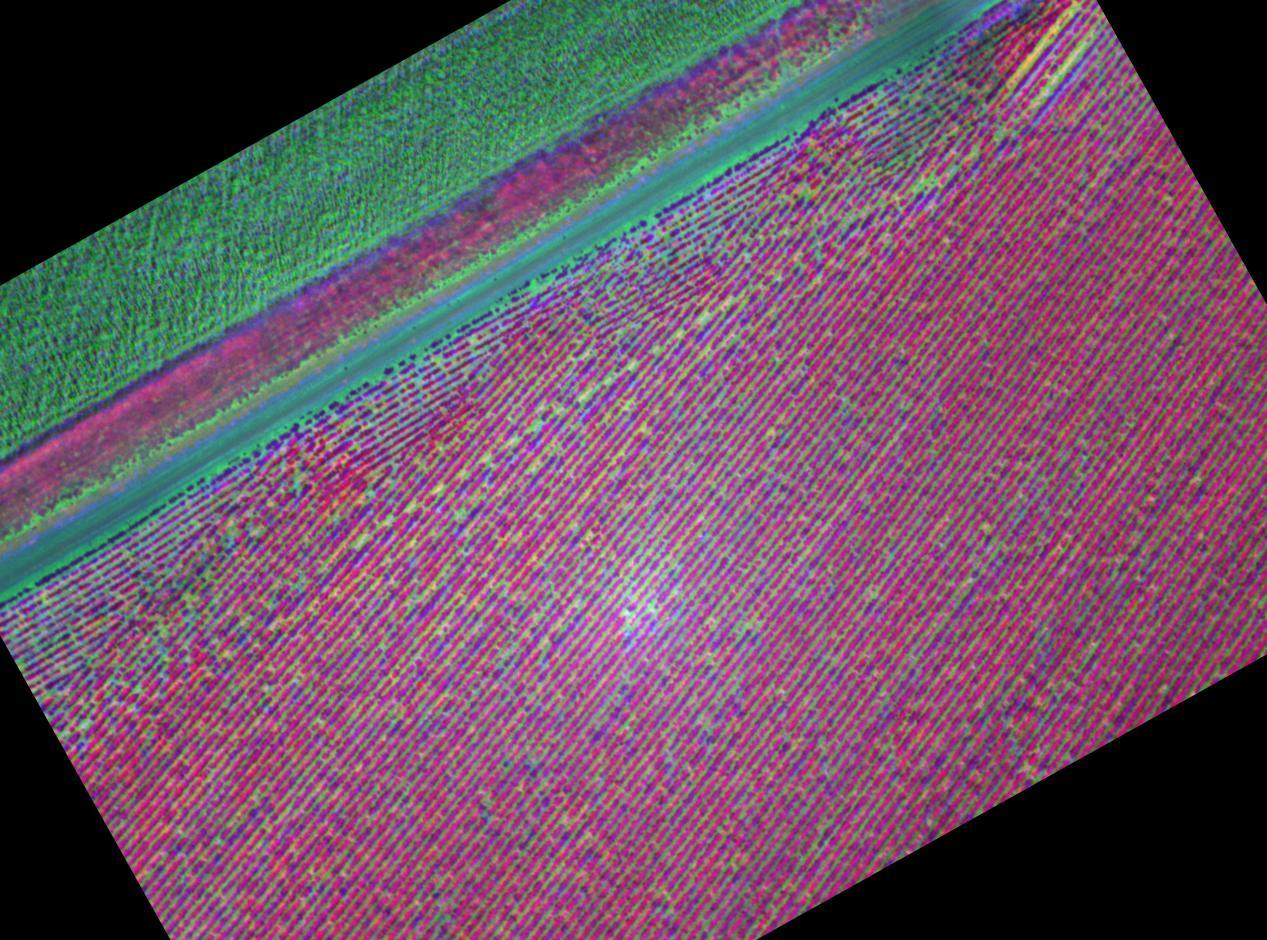dc: (485, 455, 490, 461), (83, 721, 89, 726), (534, 422, 539, 427), (410, 505, 415, 510), (986, 528, 990, 532), (1025, 65, 1029, 69), (913, 95, 917, 99), (1041, 92, 1044, 97), (355, 766, 358, 769), (1000, 589, 1002, 592), (967, 728, 969, 731)
